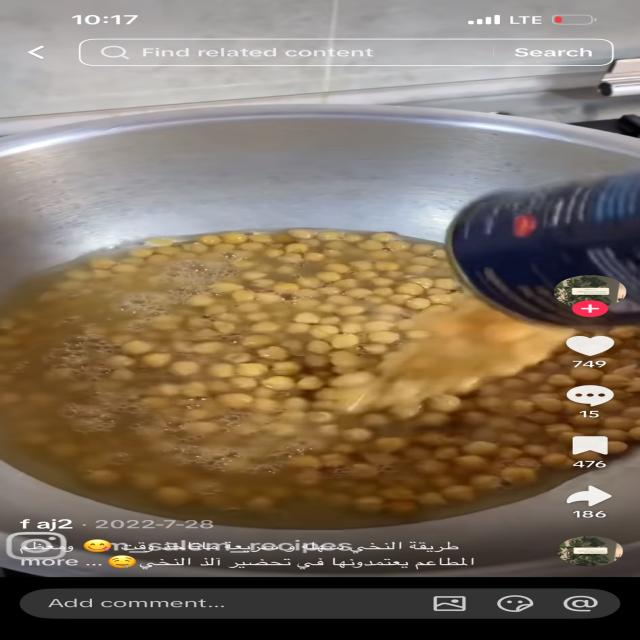Nakhi: (3, 208, 640, 520)
